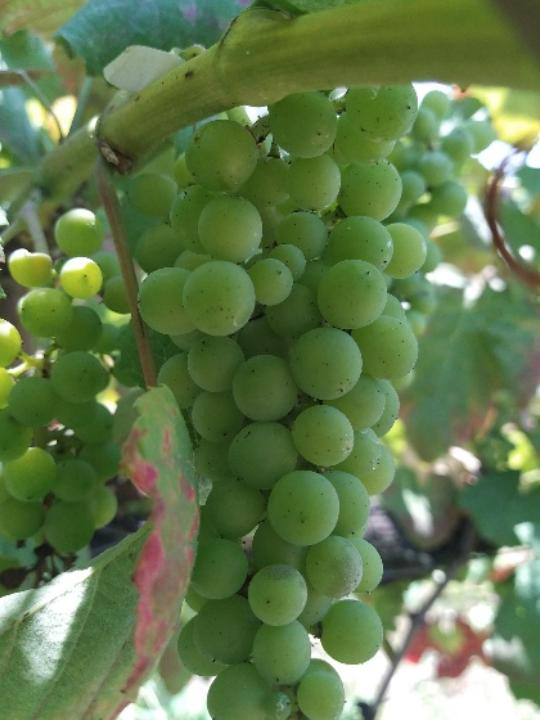grape: (117, 79, 438, 720)
